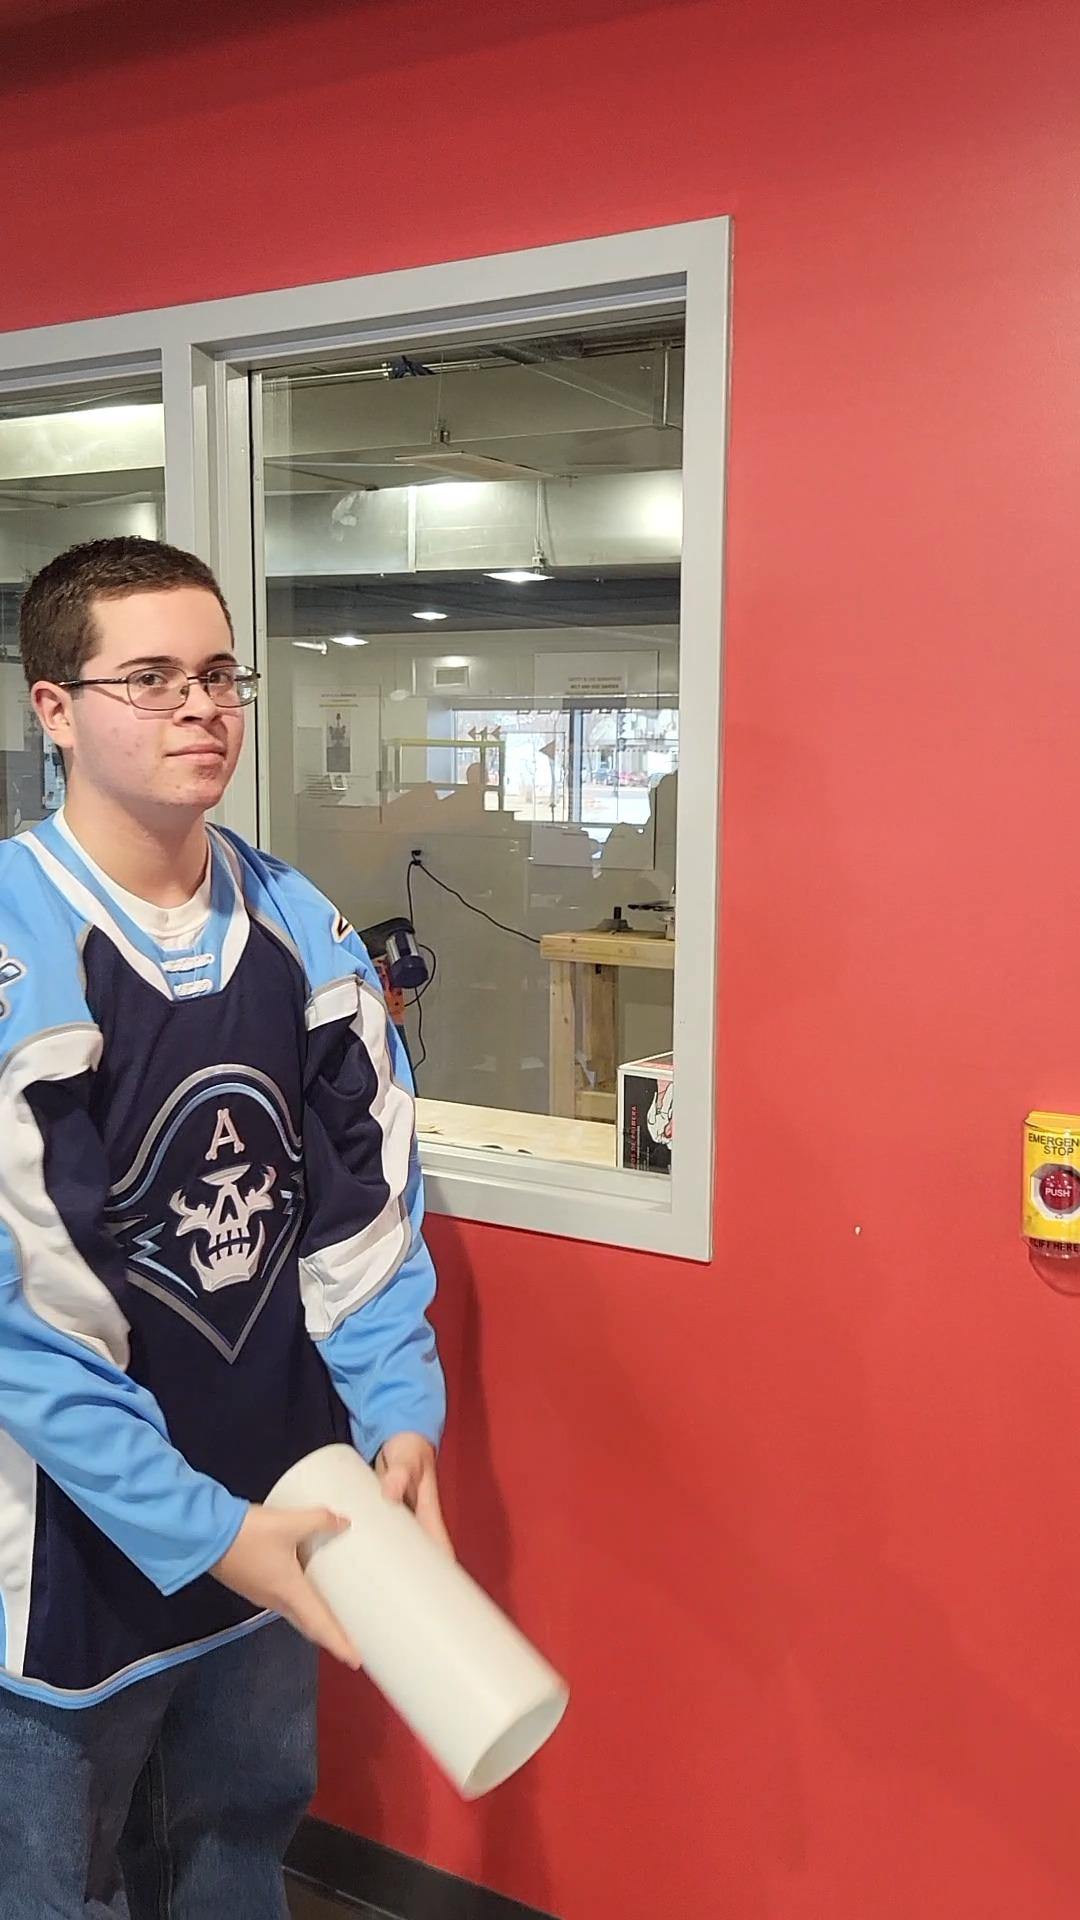coral: (260, 1427, 574, 1812)
